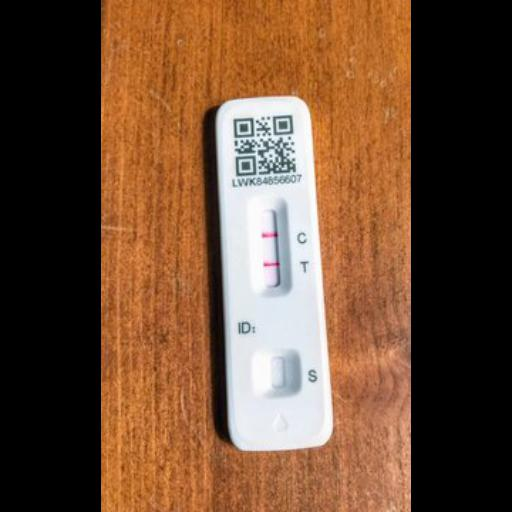Pos: (213, 95, 334, 451)
